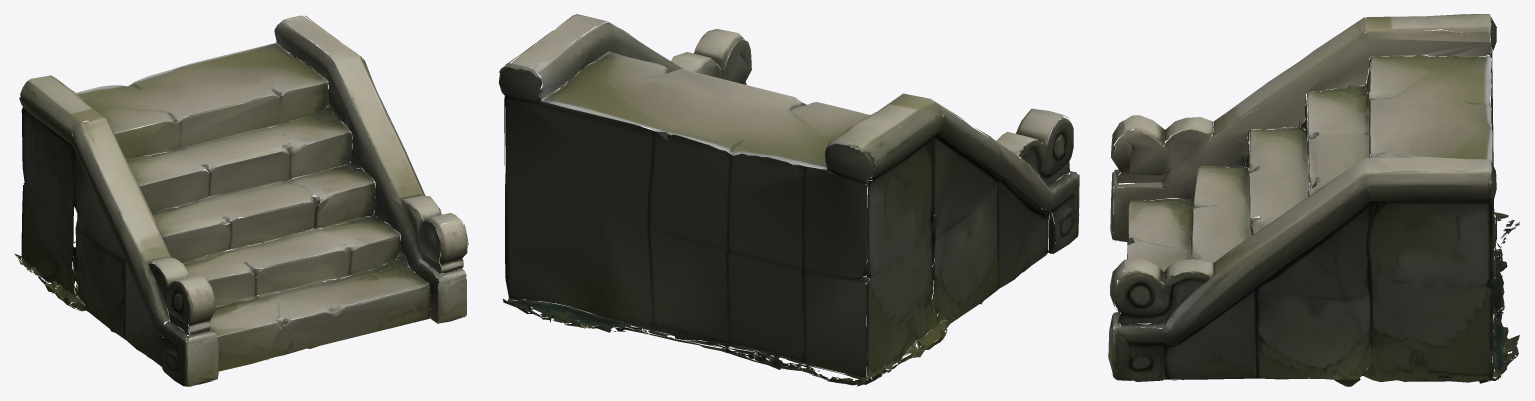
Rendered from mossySteps.glb.
The picture shows the model from 3 angles, left to right: view 1: azimuth 30°, elevation 25°; view 2: azimuth 150°, elevation 25°; view 3: azimuth 270°, elevation 25°; orthographic projection. The views are drawn at different scales.
Parts seen in each view (by area): view 1: Prop_mossySteps; view 2: Prop_mossySteps; view 3: Prop_mossySteps.
Boxes of the visible parts, bbox=[...] form: Prop_mossySteps: bbox=[15, 15, 468, 386]; Prop_mossySteps: bbox=[498, 14, 1079, 386]; Prop_mossySteps: bbox=[1108, 14, 1519, 386].
Bounding box in the file's own units: 1.95 × 1.2 × 2.04.
1 material, 1 textured.
